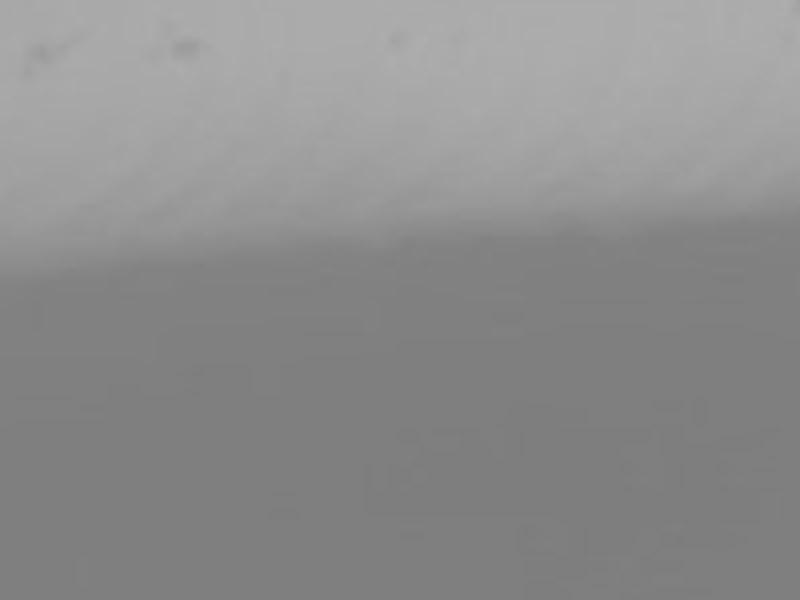defect: (25, 35, 63, 68), (171, 37, 211, 64), (387, 27, 412, 54)
